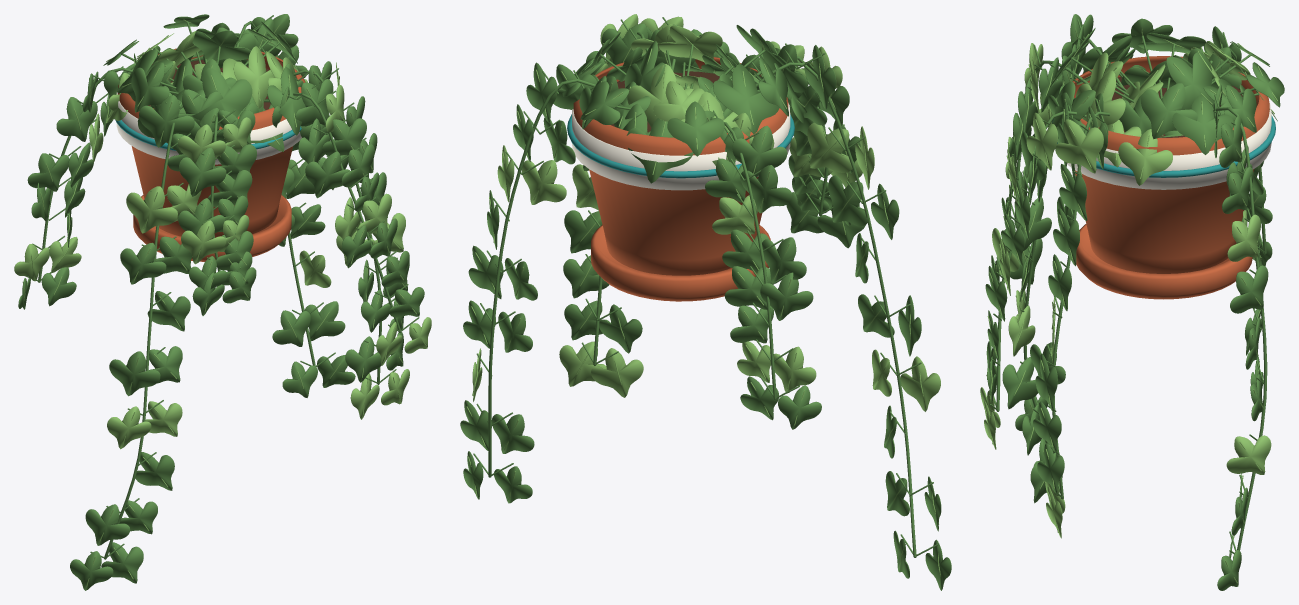
The model's file is pot_ivy.glb.
The picture shows the model from 3 angles, left to right: view 1: azimuth 30°, elevation 25°; view 2: azimuth 150°, elevation 25°; view 3: azimuth 270°, elevation 25°; orthographic projection. The views are drawn at different scales.
Parts seen in each view (by area): view 1: Terracotta_open_pot, Separate_saucer, Cream_rim_band, Rounded_ivy_leaf.026, Rounded_ivy_leaf.034, Rounded_ivy_leaf.037, Rounded_ivy_leaf.107, Rounded_ivy_leaf.042, Rounded_ivy_leaf.023, Distinct_curved_ivy_vine, Rounded_ivy_leaf.001, Rounded_ivy_leaf.008 (+63 smaller); view 2: Terracotta_open_pot, Separate_saucer, Cream_rim_band, Rounded_ivy_leaf.015, Distinct_curved_ivy_vine, Distinct_curved_ivy_vine.003, Rounded_ivy_leaf.033, Rounded_ivy_leaf.038, Rounded_ivy_leaf.071, Rounded_ivy_leaf.008, Rounded_ivy_leaf.066, Teal_glaze_band (+52 smaller); view 3: Terracotta_open_pot, Separate_saucer, Cream_rim_band, Rounded_ivy_leaf.027, Rounded_ivy_leaf.019, Rounded_ivy_leaf.053, Rounded_ivy_leaf.032, Rounded_ivy_leaf.001, Rounded_ivy_leaf.097, Rounded_ivy_leaf.092, Distinct_curved_ivy_vine.003, Rounded_ivy_leaf.046 (+47 smaller).
Part boxes in pixels (<box>): Terracotta_open_pot: <box>118,48,305,237</box>; Separate_saucer: <box>133,195,291,261</box>; Cream_rim_band: <box>116,92,301,164</box>; Rounded_ivy_leaf.026: <box>192,68,252,126</box>; Rounded_ivy_leaf.034: <box>139,95,194,147</box>; Rounded_ivy_leaf.037: <box>126,186,177,233</box>; Rounded_ivy_leaf.107: <box>179,147,226,196</box>; Rounded_ivy_leaf.042: <box>109,351,160,396</box>; Rounded_ivy_leaf.023: <box>131,62,169,112</box>; Distinct_curved_ivy_vine: <box>104,101,182,559</box>; Rounded_ivy_leaf.001: <box>192,30,250,61</box>; Rounded_ivy_leaf.008: <box>233,46,274,108</box>; Terracotta_open_pot: <box>573,57,788,275</box>; Separate_saucer: <box>591,225,770,301</box>; Cream_rim_band: <box>572,103,790,190</box>; Rounded_ivy_leaf.015: <box>713,64,779,133</box>; Distinct_curved_ivy_vine: <box>756,62,916,557</box>; Distinct_curved_ivy_vine.003: <box>488,79,595,477</box>; Rounded_ivy_leaf.033: <box>667,101,724,156</box>; Rounded_ivy_leaf.038: <box>807,122,853,172</box>; Rounded_ivy_leaf.071: <box>732,125,787,177</box>; Rounded_ivy_leaf.008: <box>658,25,722,62</box>; Rounded_ivy_leaf.066: <box>591,348,643,397</box>; Teal_glaze_band: <box>567,114,794,178</box>; Terracotta_open_pot: <box>1072,56,1269,273</box>; Separate_saucer: <box>1076,224,1252,299</box>; Cream_rim_band: <box>1067,103,1271,189</box>; Rounded_ivy_leaf.027: <box>1172,95,1233,154</box>; Rounded_ivy_leaf.019: <box>1141,83,1197,139</box>; Rounded_ivy_leaf.053: <box>1055,119,1103,173</box>; Rounded_ivy_leaf.032: <box>1118,129,1172,185</box>; Rounded_ivy_leaf.001: <box>1166,52,1214,109</box>; Rounded_ivy_leaf.097: <box>1226,435,1271,474</box>; Rounded_ivy_leaf.092: <box>1230,265,1268,313</box>; Distinct_curved_ivy_vine.003: <box>1213,107,1267,550</box>; Rounded_ivy_leaf.046: <box>1002,357,1038,409</box>.
Bounding box in the file's own units: 0.5027 × 0.6364 × 0.3303.
